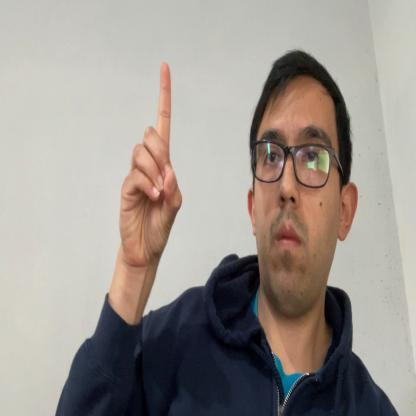D: (119, 63, 183, 273)
